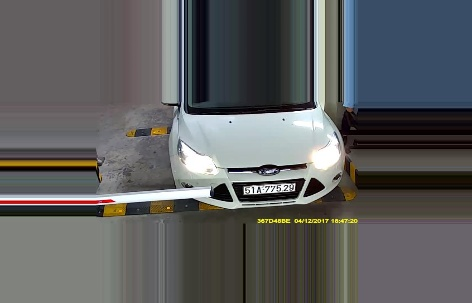plate: (244, 184, 295, 195)
